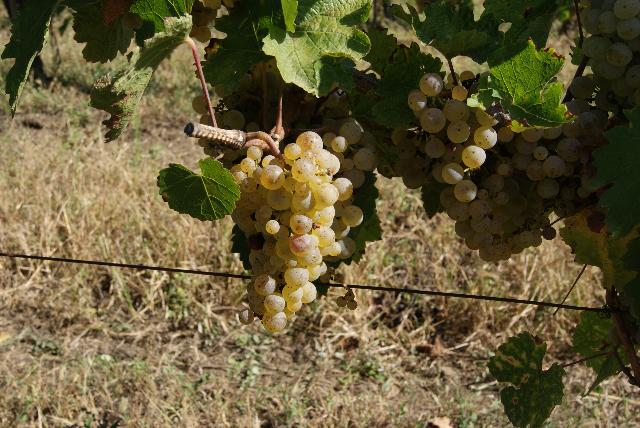grapes: (232, 131, 375, 332), (391, 72, 489, 229)
